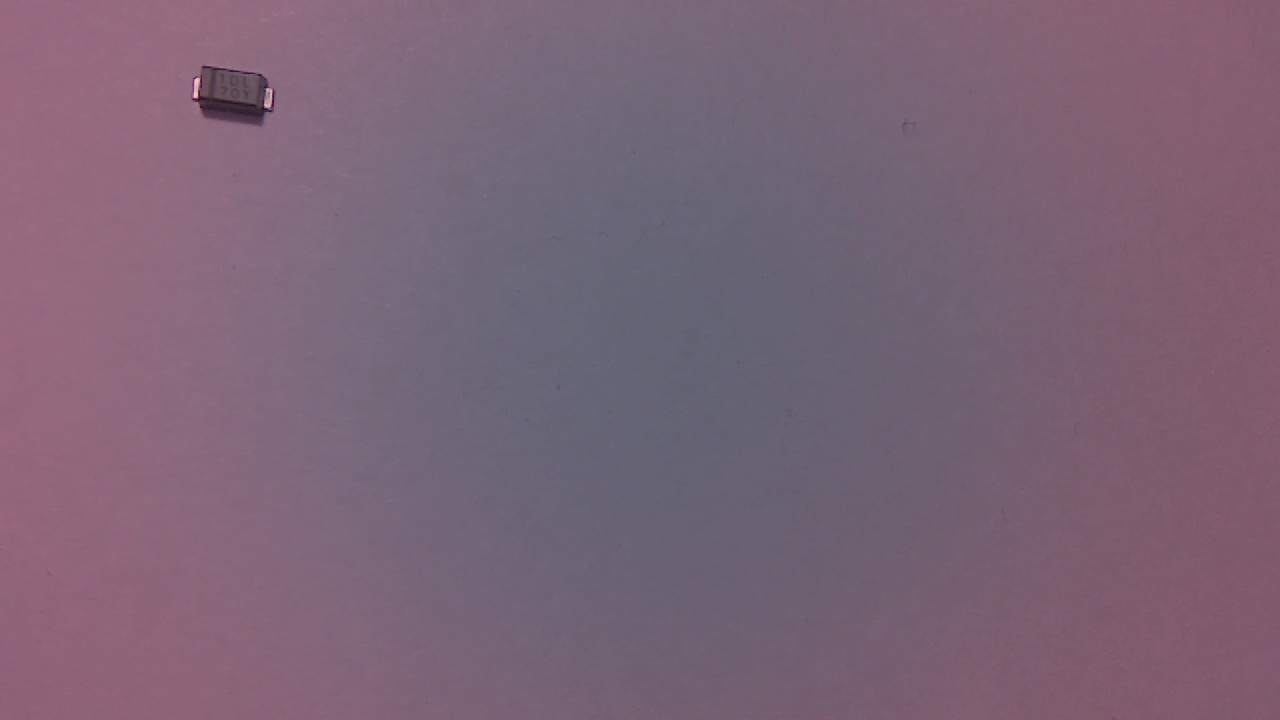Diode: (190, 64, 286, 134)
